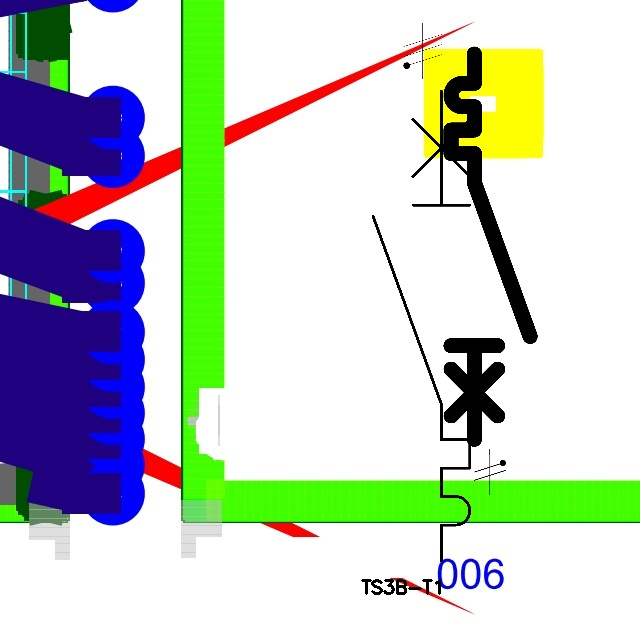interruptor_termomagnetico: (361, 78, 482, 572), (441, 44, 540, 449)
